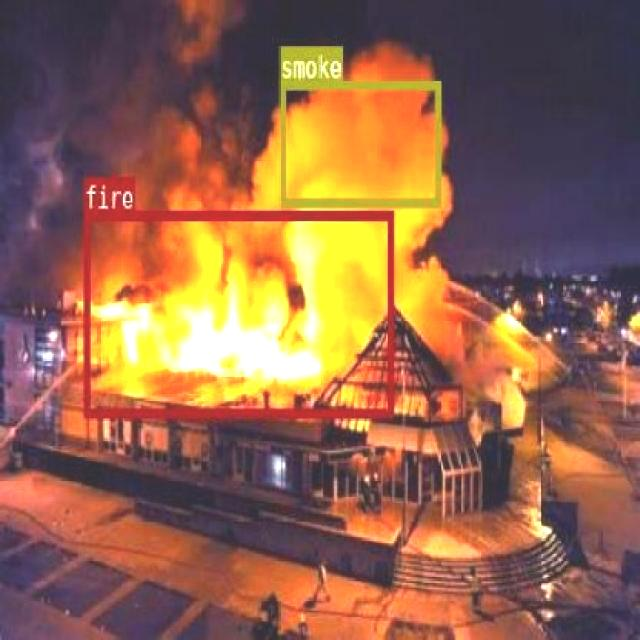fire: (82, 208, 393, 416)
smoke: (278, 78, 440, 206)
